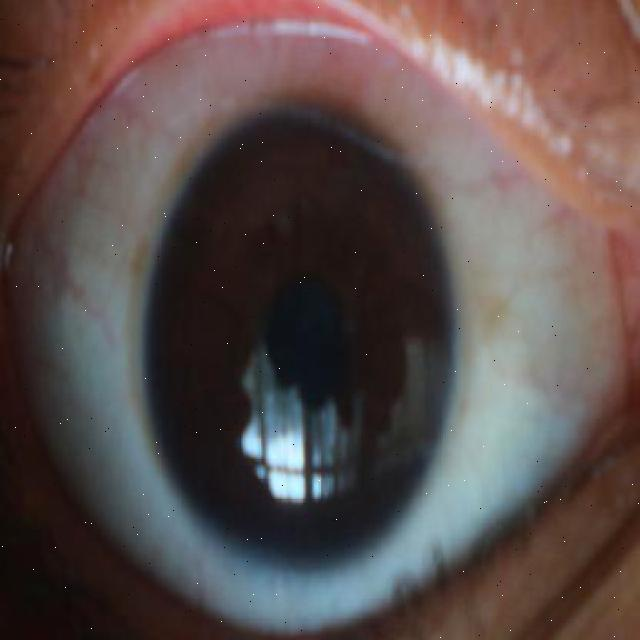Normal: (142, 107, 456, 565)
